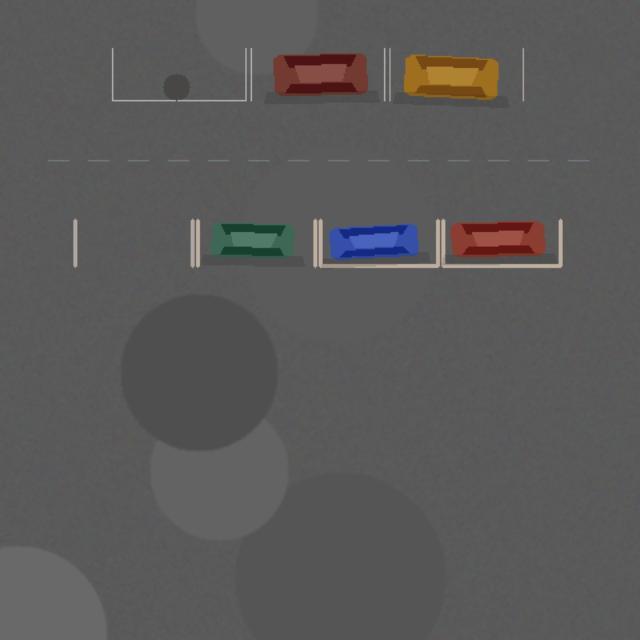space-empty: (112, 48, 245, 100), (75, 220, 192, 265)
space-occupied: (389, 48, 523, 100), (251, 48, 384, 100), (197, 220, 315, 265), (320, 220, 437, 265), (443, 220, 560, 265)
